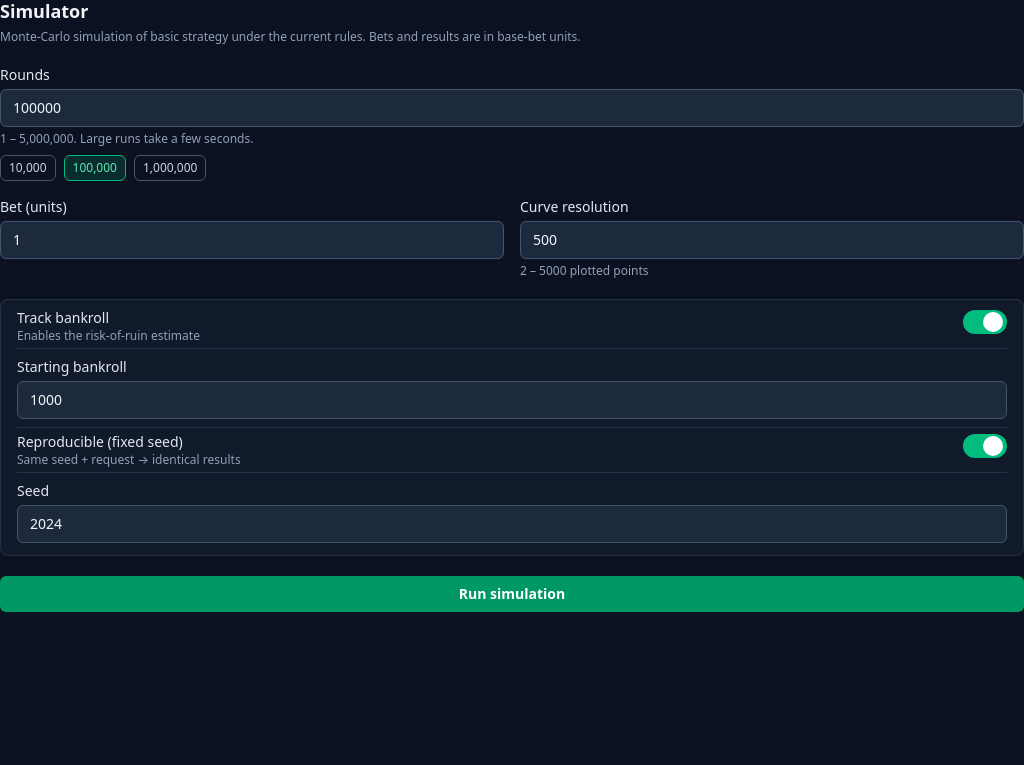
Test: SimulatorView › runs a simulation and renders stat cards
Click the button "Run simulation" at (512, 594), box [0,576,1023,612]
(page scrolled)
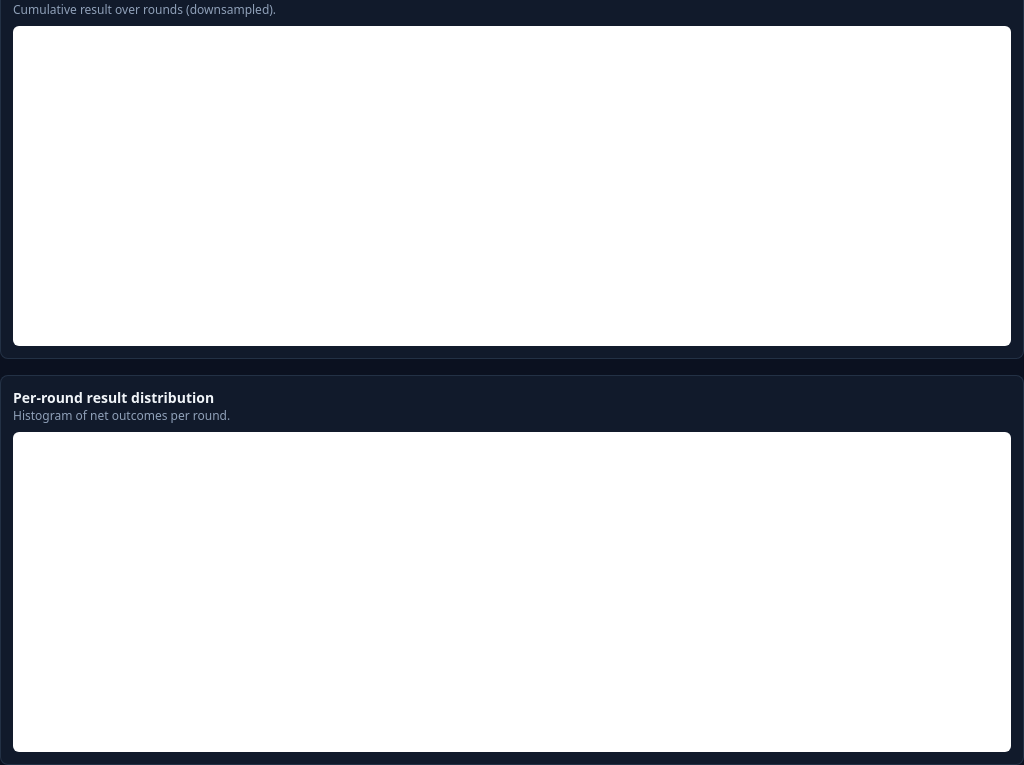
Expected: the heading "Per-round result distribution" is shown, [13,388,214,407]
